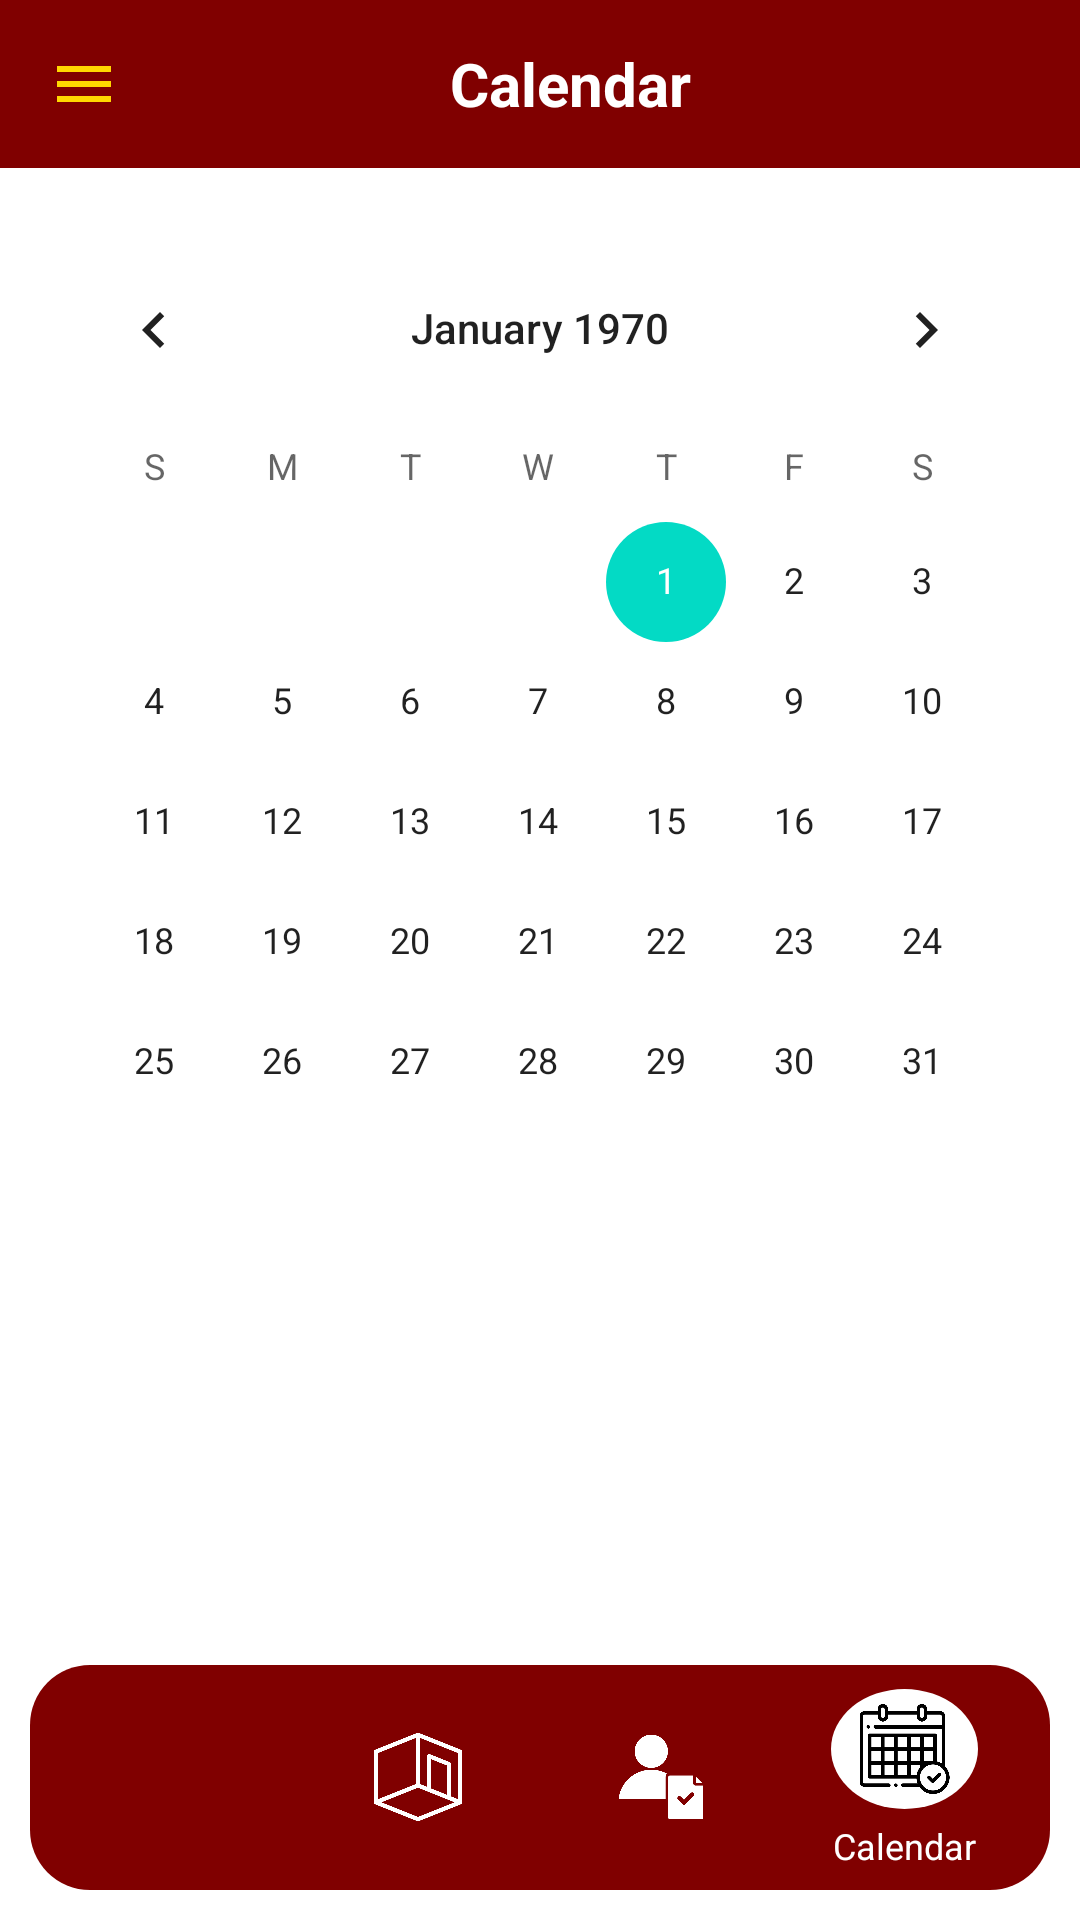

Named icons in this screenshot (1080w x 1920h) and their bounding boxes, (left=x1, top=y1, right=x2, bottom=y2):
Menu Icon: (left=57, top=66, right=111, bottom=102)
Report: (left=619, top=1735, right=703, bottom=1819)
Rooms: (left=374, top=1733, right=462, bottom=1821)
